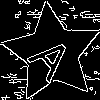A: (27, 28, 83, 84)
